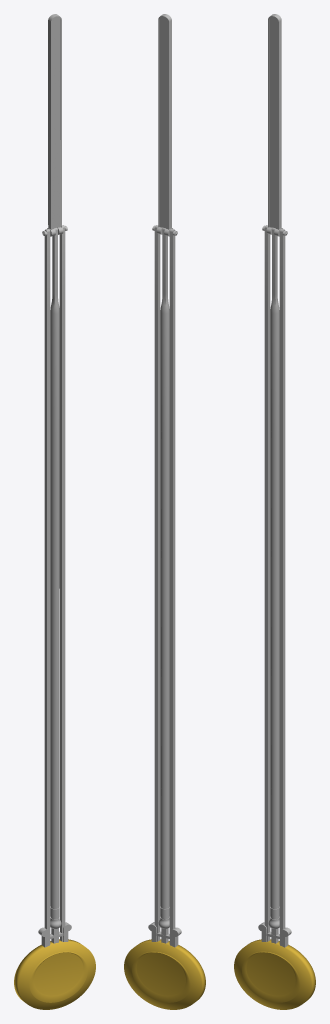
Rendered from pendulum.glb.
3 views of the same model, side by side, from view 1: azimuth 30°, elevation 25°; view 2: azimuth 150°, elevation 25°; view 3: azimuth 330°, elevation 25° (orthographic).
Parts seen in each view (by area): view 1: clocktower_pendulum_top1; view 2: clocktower_pendulum_top1; view 3: clocktower_pendulum_top1.
Boxes of the visible parts, left/top/right/bottom form: clocktower_pendulum_top1: left=14, top=14, right=95, bottom=1009; clocktower_pendulum_top1: left=124, top=14, right=205, bottom=1009; clocktower_pendulum_top1: left=234, top=14, right=315, bottom=1009.
Bounding box in the file's own units: 1.59 × 19.43 × 0.2779.
